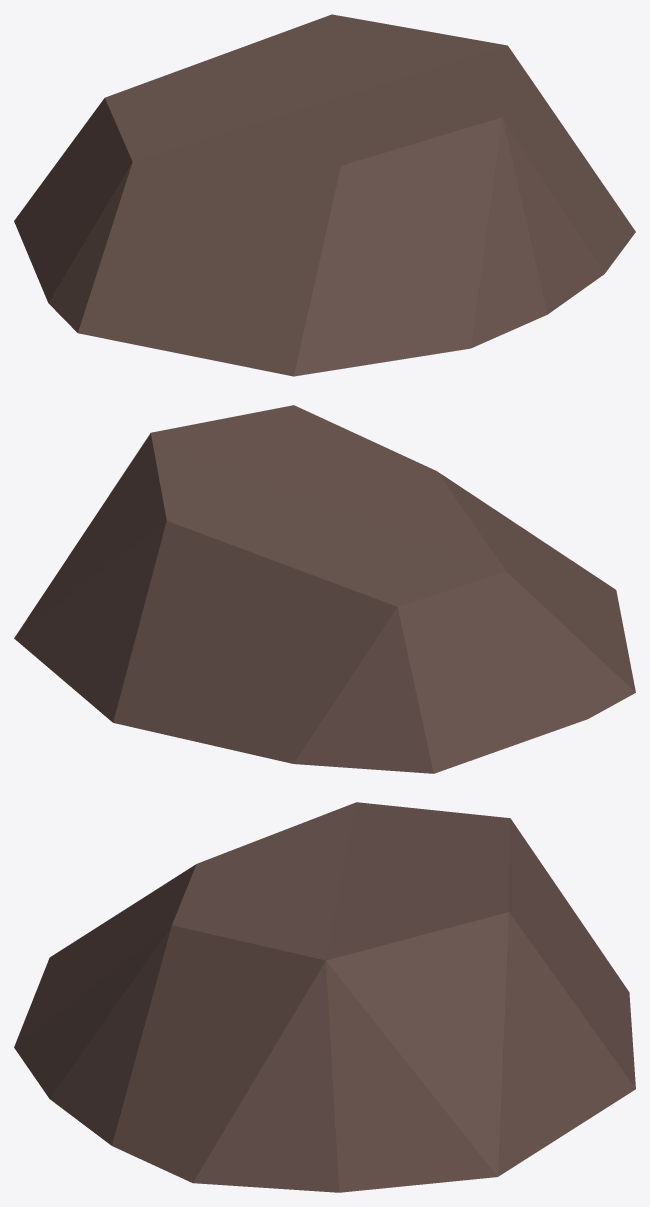
The model's file is Pebble_02.glb.
3 renders of one model, top to bottom at view 1: azimuth 30°, elevation 25°; view 2: azimuth 150°, elevation 25°; view 3: azimuth 270°, elevation 25°, orthographic. The views are drawn at different scales.
Visible parts, largest first — view 1: Pebble_02; view 2: Pebble_02; view 3: Pebble_02.
Boxes of the visible parts, bbox=[...] form: Pebble_02: bbox=[14, 14, 635, 376]; Pebble_02: bbox=[14, 405, 635, 773]; Pebble_02: bbox=[14, 802, 635, 1192].
Size of the model in its own units: 0.1537 by 0.0437 by 0.1343.
1 material, 1 textured.
